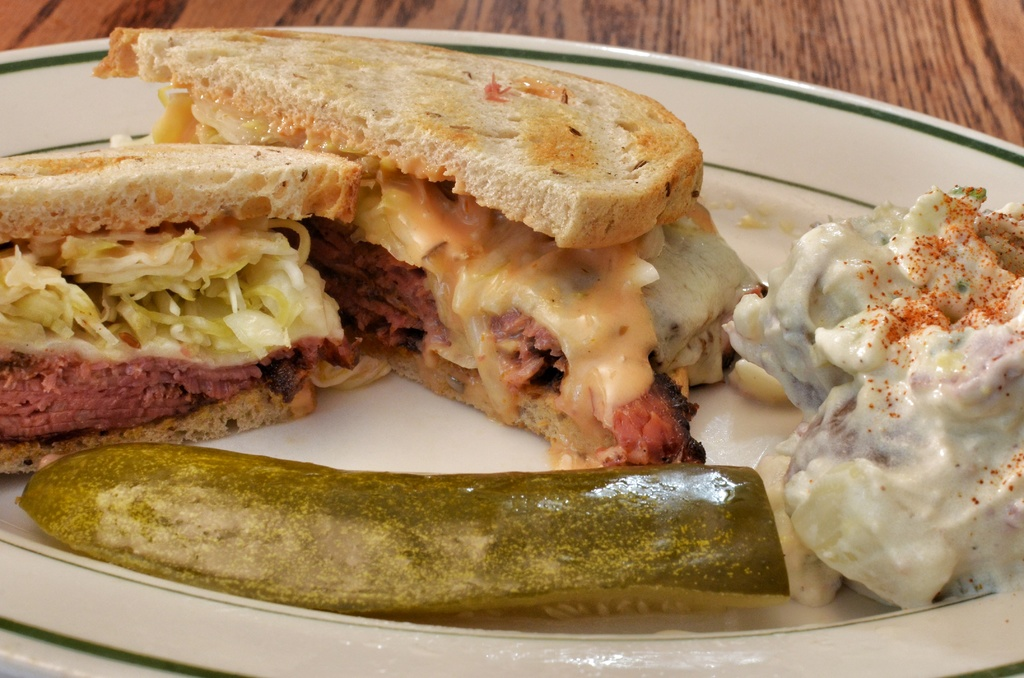sandwich: (93, 27, 777, 467), (0, 141, 365, 473)
